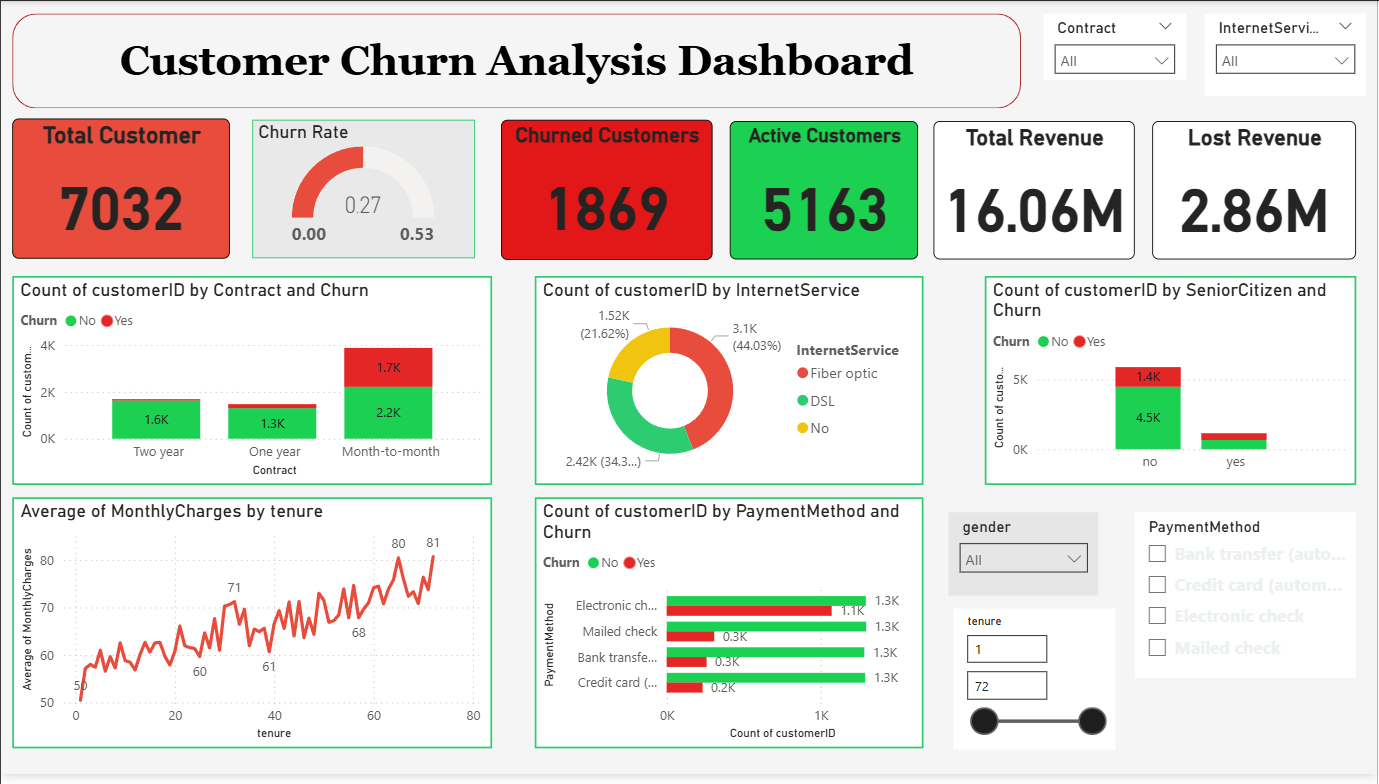

This screenshot's page, from the dashboard's own definition file:
{"tool":"powerbi","page":{"name":"Page 1","canvas":[1280,720],"ordinal":0},"visuals":[{"type":"card","title":"Total Customer ","fields":{"Values":["WA_Fn-UseC_-Telco-Customer-Churn (1).Total Customers"]},"box":[10.5,109.3,202.3,130.2],"z":0},{"type":"card","title":"Churned Customers","fields":{"Values":["WA_Fn-UseC_-Telco-Customer-Churn (1).Churned Customers"]},"box":[465.1,110.5,196.5,130.2],"z":1000},{"type":"card","title":"Active Customers","fields":{"Values":["WA_Fn-UseC_-Telco-Customer-Churn (1).Active Customers"]},"box":[677.9,111.6,175.6,129.1],"z":2000},{"type":"gauge","fields":{"Y":["WA_Fn-UseC_-Telco-Customer-Churn (1).Churn Rate"]},"box":[233.7,110.5,207,129.1],"z":3000},{"type":"card","title":"Total Revenue","fields":{"Values":["WA_Fn-UseC_-Telco-Customer-Churn (1).Total Revenue"]},"box":[867.4,111.6,187.2,129.1],"z":4000},{"type":"card","title":"Lost Revenue","fields":{"Values":["WA_Fn-UseC_-Telco-Customer-Churn (1).Lost Revenue"]},"box":[1070.9,111.6,189.5,129.1],"z":5000},{"type":"columnChart","fields":{"Category":["WA_Fn-UseC_-Telco-Customer-Churn (1).Contract"],"Series":["WA_Fn-UseC_-Telco-Customer-Churn (1).Churn"],"Y":["CountNonNull(WA_Fn-UseC_-Telco-Customer-Churn (1).customerID)"]},"box":[10.5,255.8,446.5,194.2],"z":6000},{"type":"donutChart","fields":{"Category":["WA_Fn-UseC_-Telco-Customer-Churn (1).InternetService"],"Y":["CountNonNull(WA_Fn-UseC_-Telco-Customer-Churn (1).customerID)"]},"box":[496.5,255.8,361.6,194.2],"z":7000},{"type":"lineChart","fields":{"Category":["WA_Fn-UseC_-Telco-Customer-Churn (1).tenure"],"Y":["Avg(WA_Fn-UseC_-Telco-Customer-Churn (1).MonthlyCharges)"]},"box":[10.5,461.6,446.5,233.7],"z":8000},{"type":"clusteredBarChart","fields":{"Category":["WA_Fn-UseC_-Telco-Customer-Churn (1).PaymentMethod"],"Y":["CountNonNull(WA_Fn-UseC_-Telco-Customer-Churn (1).customerID)"],"Series":["WA_Fn-UseC_-Telco-Customer-Churn (1).Churn"]},"box":[496.5,461.6,361.6,233.7],"z":9000},{"type":"columnChart","fields":{"Category":["WA_Fn-UseC_-Telco-Customer-Churn (1).SeniorCitizen"],"Y":["CountNonNull(WA_Fn-UseC_-Telco-Customer-Churn (1).customerID)"],"Series":["WA_Fn-UseC_-Telco-Customer-Churn (1).Churn"]},"box":[915.1,255.8,345.3,194.2],"z":10000},{"type":"slicer","fields":{"Values":["WA_Fn-UseC_-Telco-Customer-Churn (1).gender"]},"box":[881.4,475.6,139.5,77.9],"z":11000},{"type":"slicer","fields":{"Values":["WA_Fn-UseC_-Telco-Customer-Churn (1).Contract"]},"box":[969.8,11.6,132.6,61.6],"z":12000},{"type":"slicer","fields":{"Values":["WA_Fn-UseC_-Telco-Customer-Churn (1).InternetService"]},"box":[1119.8,11.6,150,76.7],"z":13000},{"type":"shape","box":[10.5,11.6,938.4,88.4],"z":14000},{"type":"slicer","fields":{"Values":["WA_Fn-UseC_-Telco-Customer-Churn (1).PaymentMethod"]},"box":[1054.7,475.6,205.8,154.7],"z":15000},{"type":"slicer","fields":{"Values":["WA_Fn-UseC_-Telco-Customer-Churn (1).tenure"]},"box":[886,565.1,150,130.2],"z":16000}]}

Visuals, with their boxes in screenshot pixels (x1, y1, x2, y2), scaled from the page's 1280x720 canvas onto the 1379x784 screenshot:
"Total Customer " card: bbox=(11, 119, 229, 261)
"Churned Customers" card: bbox=(501, 120, 713, 262)
"Active Customers" card: bbox=(730, 122, 920, 262)
gauge - WA_Fn-UseC_-Telco-Customer-Churn (1).Churn Rate: bbox=(252, 120, 475, 261)
"Total Revenue" card: bbox=(934, 122, 1136, 262)
"Lost Revenue" card: bbox=(1154, 122, 1358, 262)
columnChart - WA_Fn-UseC_-Telco-Customer-Churn (1).Contract x WA_Fn-UseC_-Telco-Customer-Churn (1).Churn: bbox=(11, 279, 492, 490)
donutChart - WA_Fn-UseC_-Telco-Customer-Churn (1).InternetService x CountNonNull(WA_Fn-UseC_-Telco-Customer-Churn (1).customerID): bbox=(535, 279, 924, 490)
lineChart - WA_Fn-UseC_-Telco-Customer-Churn (1).tenure x Avg(WA_Fn-UseC_-Telco-Customer-Churn (1).MonthlyCharges): bbox=(11, 503, 492, 757)
clusteredBarChart - WA_Fn-UseC_-Telco-Customer-Churn (1).PaymentMethod x CountNonNull(WA_Fn-UseC_-Telco-Customer-Churn (1).customerID): bbox=(535, 503, 924, 757)
columnChart - WA_Fn-UseC_-Telco-Customer-Churn (1).SeniorCitizen x CountNonNull(WA_Fn-UseC_-Telco-Customer-Churn (1).customerID): bbox=(986, 279, 1358, 490)
slicer - WA_Fn-UseC_-Telco-Customer-Churn (1).gender: bbox=(950, 518, 1100, 603)
slicer - WA_Fn-UseC_-Telco-Customer-Churn (1).Contract: bbox=(1045, 13, 1188, 80)
slicer - WA_Fn-UseC_-Telco-Customer-Churn (1).InternetService: bbox=(1206, 13, 1368, 96)
shape: bbox=(11, 13, 1022, 109)
slicer - WA_Fn-UseC_-Telco-Customer-Churn (1).PaymentMethod: bbox=(1136, 518, 1358, 686)
slicer - WA_Fn-UseC_-Telco-Customer-Churn (1).tenure: bbox=(955, 615, 1116, 757)
